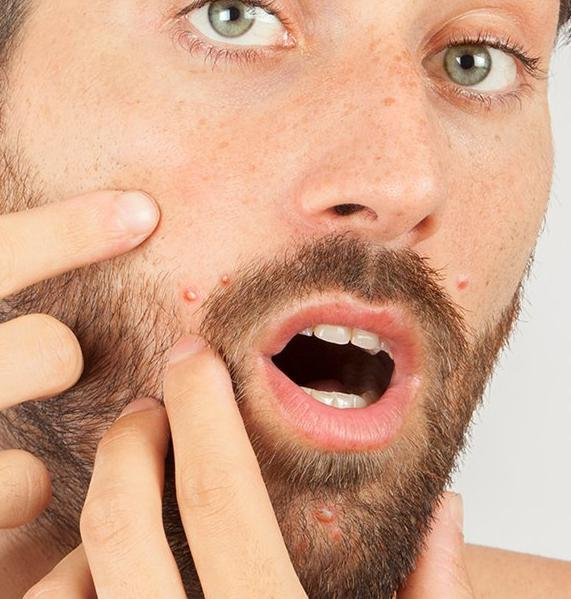Acne: (182, 283, 200, 309), (454, 268, 469, 294)
